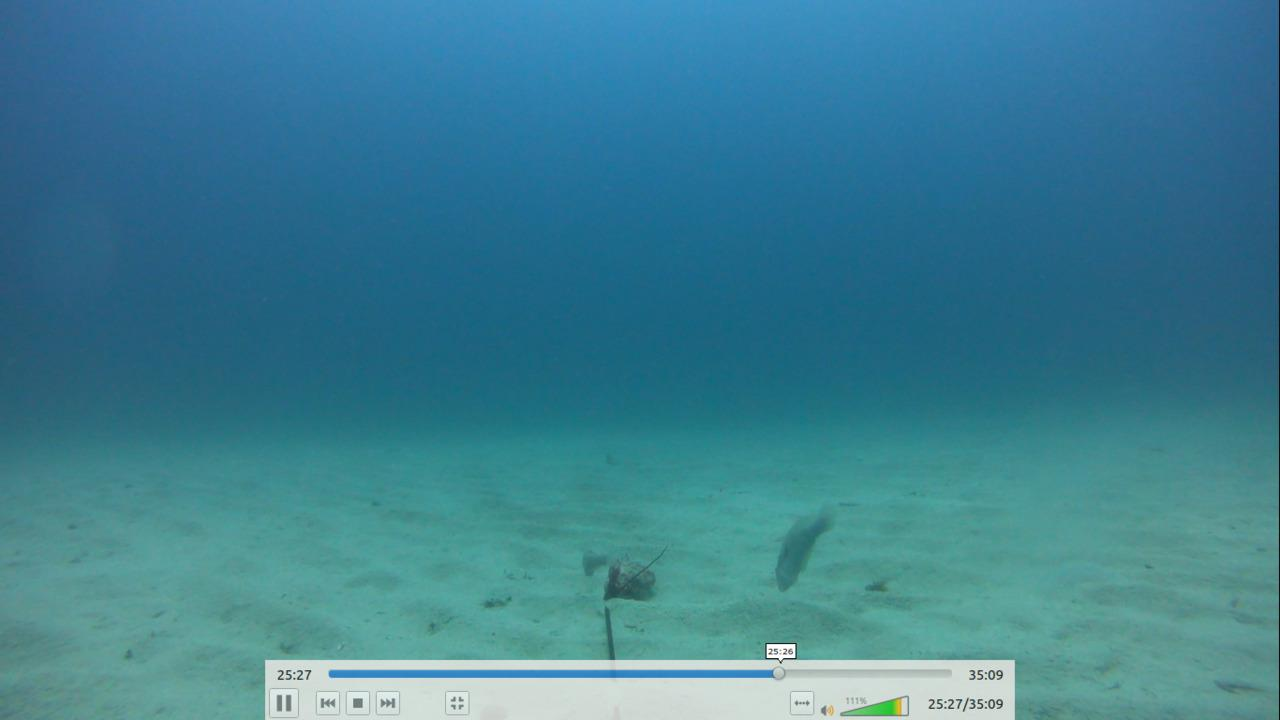raor: (767, 502, 841, 598)
